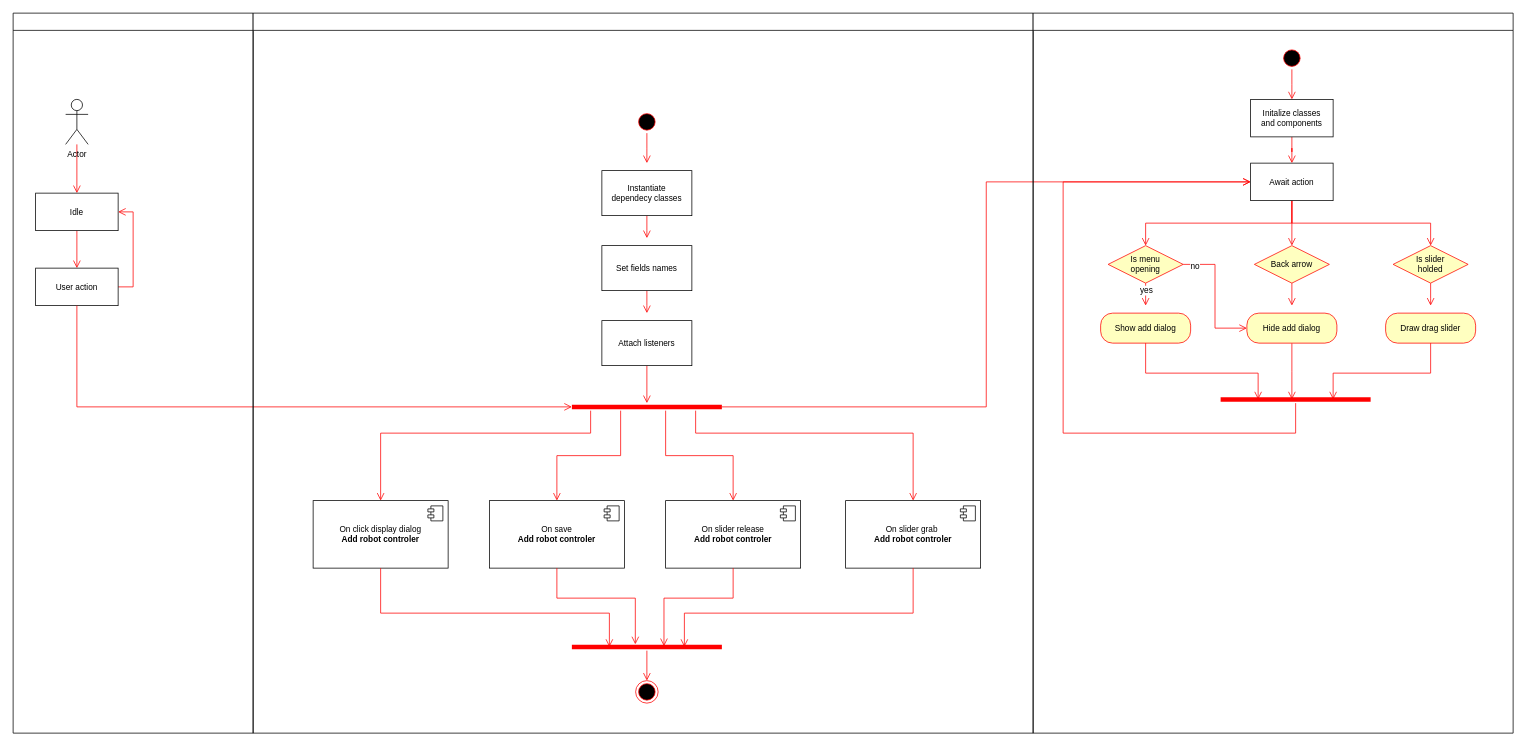
The diagram is 1526 pixels wide and 746 high, and some of its shapes have lost their labels. Here are the shapes that lost their labels. From the top down, the centre of each, then its label:
At (132,372): "View".
At (642,372): "Controller".
At (1272,372): "Behavoir".
